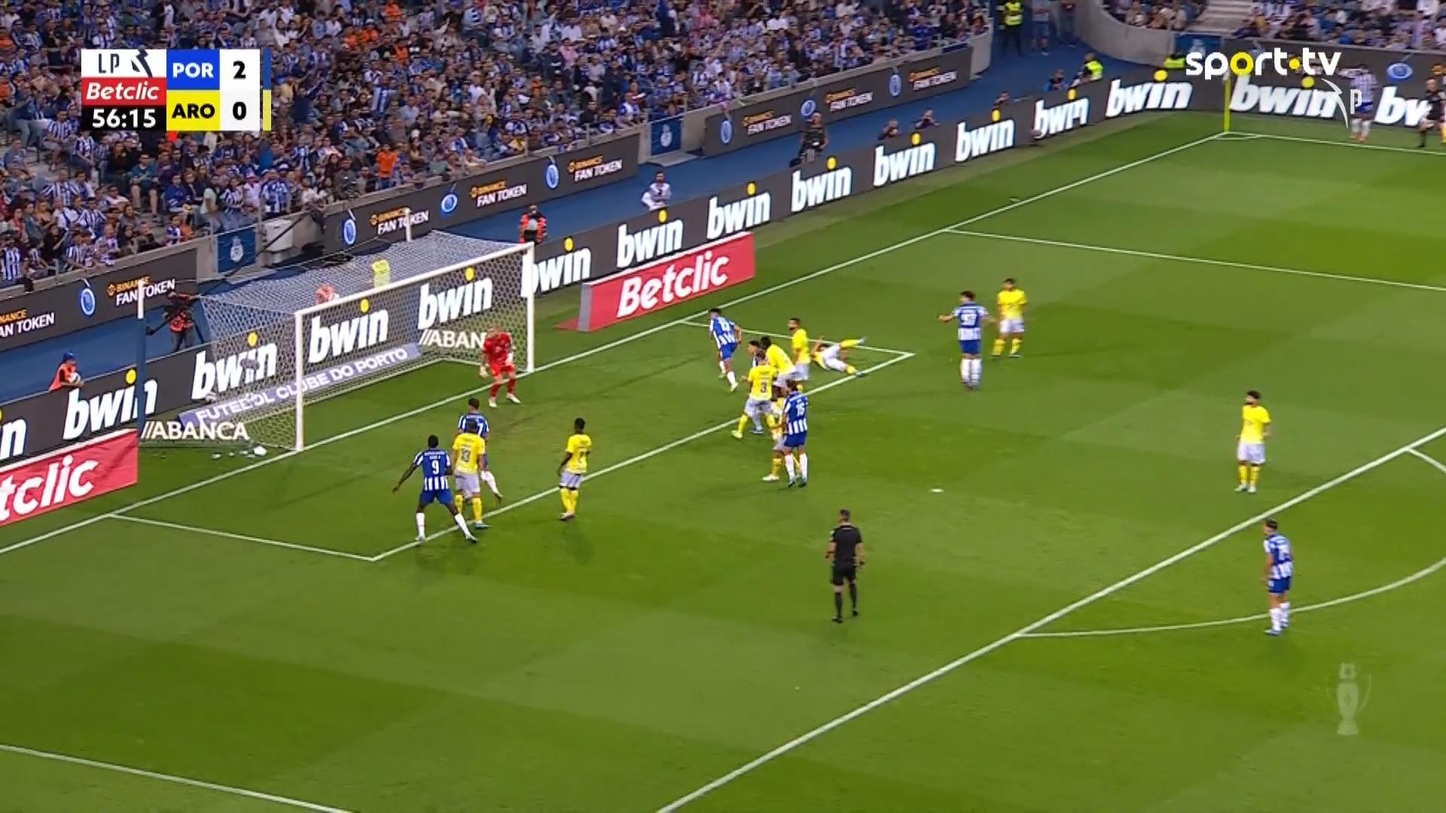goalkeeper: (477, 327, 520, 408)
player: (391, 434, 477, 544), (937, 289, 995, 390), (456, 396, 503, 501), (447, 420, 490, 529), (730, 340, 776, 438), (1260, 516, 1294, 635), (1234, 388, 1271, 493), (555, 416, 592, 520), (761, 380, 798, 483), (776, 378, 809, 488), (707, 306, 743, 392), (990, 276, 1027, 358), (1345, 62, 1379, 142), (810, 335, 868, 377), (758, 334, 796, 385), (786, 316, 810, 388), (48, 351, 84, 391), (640, 171, 671, 211)
referee: (823, 507, 866, 623), (1415, 78, 1446, 150)
